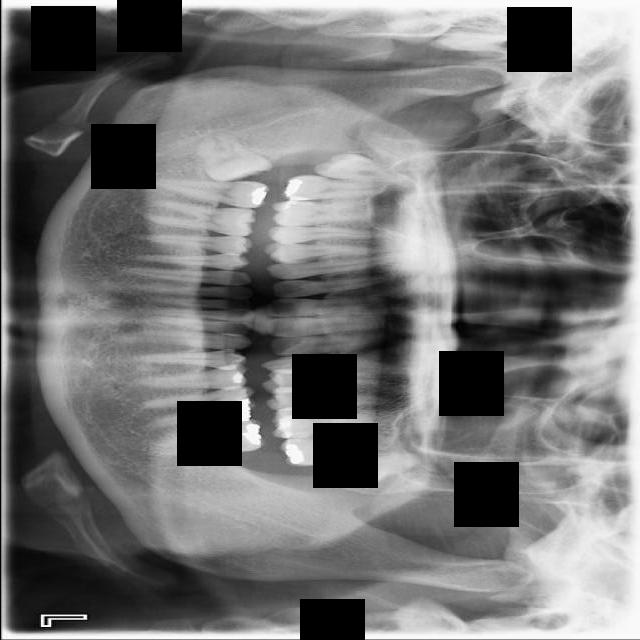3M ESPE Implant: (313, 150, 409, 184)
52: (268, 402, 320, 445), (278, 431, 326, 472), (218, 416, 266, 456), (223, 176, 271, 212), (213, 385, 257, 424), (280, 174, 328, 201), (271, 200, 314, 227), (210, 363, 249, 392)
73: (37, 608, 42, 616)
BioHorizons Implant: (279, 435, 397, 467)
BioLife Implant: (320, 449, 419, 492)
Blue Sky Bio Implant: (150, 418, 265, 457)
Caries: (280, 170, 391, 201)
Implant: (152, 177, 270, 209)
Keystone Dental Implant: (192, 122, 274, 190)
